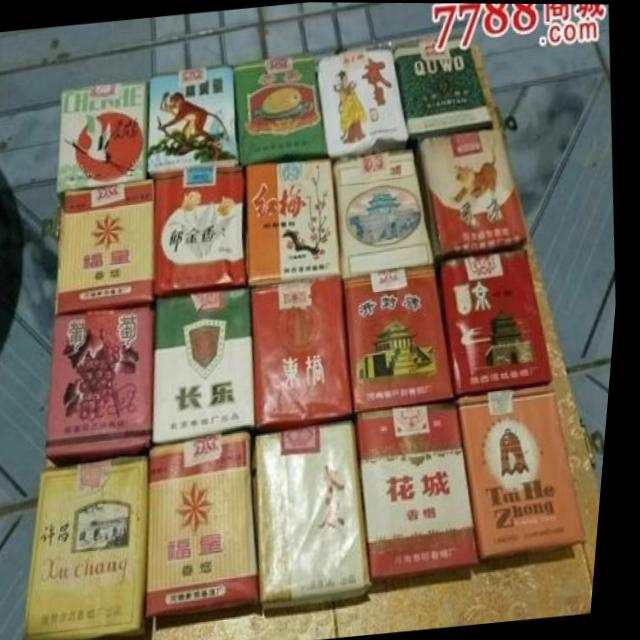box: (343, 248, 609, 633), (32, 455, 164, 640), (261, 415, 380, 613), (362, 398, 489, 578), (465, 383, 592, 560), (156, 428, 269, 624), (438, 248, 559, 399), (53, 303, 159, 466), (346, 266, 464, 411), (158, 287, 263, 443), (253, 276, 360, 429), (414, 125, 532, 258), (333, 146, 437, 275), (155, 163, 252, 298), (62, 176, 160, 309), (248, 157, 344, 285), (318, 40, 413, 154), (59, 79, 151, 195), (147, 64, 242, 175), (393, 29, 495, 132), (236, 55, 330, 164), (158, 601, 347, 640)
